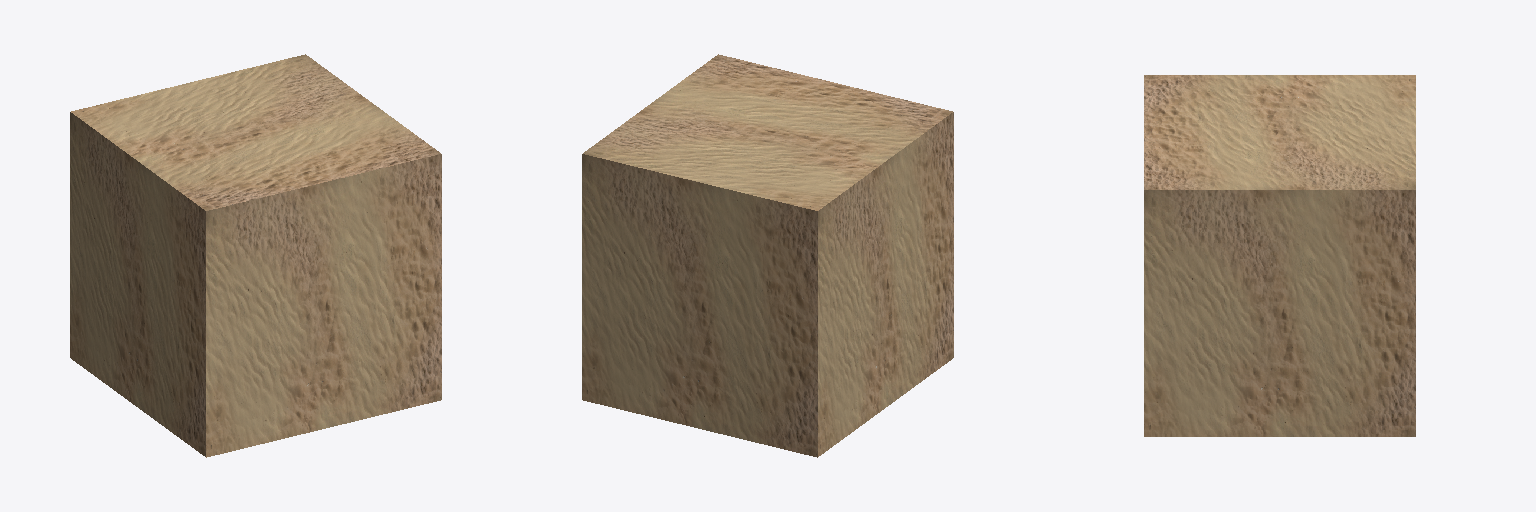
The picture shows the model from 3 angles: view 1: azimuth 30°, elevation 25°; view 2: azimuth 150°, elevation 25°; view 3: azimuth 270°, elevation 25°; orthographic projection.
Parts seen in each view (by area): view 1: Cube_Cube.001; view 2: Cube_Cube.001; view 3: Cube_Cube.001.
Part boxes in pixels (bbox=[...]): Cube_Cube.001: bbox=[70, 54, 441, 457]; Cube_Cube.001: bbox=[582, 54, 953, 457]; Cube_Cube.001: bbox=[1144, 75, 1415, 436].
Bounding box in the file's own units: 2 × 2 × 2.
1 materials, 1 textured.